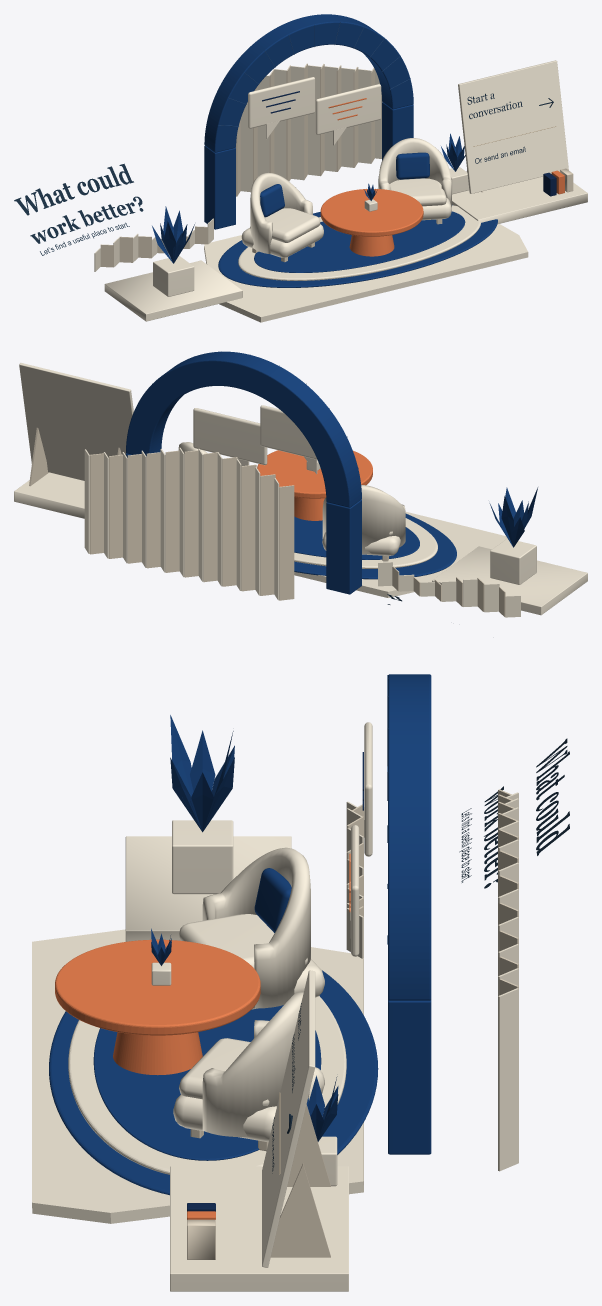
Rendered from contact.glb.
3 renders of one model, top to bottom at view 1: azimuth 30°, elevation 25°; view 2: azimuth 150°, elevation 25°; view 3: azimuth 270°, elevation 25°, orthographic. The views are drawn at different scales.
Parts seen in each view (by area): view 1: Conversation folded platform, Contact invitation, Arch standing leg, Open cobalt conversation arch, Right invitation stage, Left lounge plant folded pot, Cream paper rug rim, Room folded backdrop.015, Coral circular tabletop, Listening bubble panel, Reply bubble panel, Room folded backdrop (+8 smaller); view 2: Room folded backdrop, Open cobalt conversation arch, Conversation folded platform, Contact invitation, Arch standing leg, Left lounge plant folded pot, Invitation folded support, Reply bubble panel, Room folded backdrop.015, Coral circular tabletop, Left architectural pleat, Right invitation stage (+5 smaller); view 3: Conversation folded platform, Arch standing leg, Right invitation stage, Coral circular tabletop, Open cobalt conversation arch, Room folded backdrop.015, Left lounge plant folded pot, Cream paper rug rim, Arch standing leg.001, Contact invitation, Invitation folded support, Left lounge plant folded leaf (+8 smaller).
Part boxes in pixels (<box>): Conversation folded platform: <box>204,65,528,322</box>; Contact invitation: <box>458,60,568,193</box>; Arch standing leg: <box>204,145,497,287</box>; Open cobalt conversation arch: <box>204,14,413,152</box>; Right invitation stage: <box>390,166,587,223</box>; Left lounge plant folded pot: <box>104,255,242,321</box>; Cream paper rug rim: <box>238,199,480,280</box>; Room folded backdrop.015: <box>341,68,451,207</box>; Coral circular tabletop: <box>320,189,423,236</box>; Listening bubble panel: <box>248,77,315,128</box>; Reply bubble panel: <box>315,84,381,134</box>; Room folded backdrop: <box>236,63,341,196</box>; Room folded backdrop: <box>146,450,294,600</box>; Open cobalt conversation arch: <box>126,351,361,507</box>; Conversation folded platform: <box>160,447,507,600</box>; Contact invitation: <box>19,363,133,480</box>; Arch standing leg: <box>294,499,456,594</box>; Left lounge plant folded pot: <box>432,538,587,615</box>; Invitation folded support: <box>29,427,141,563</box>; Reply bubble panel: <box>193,408,267,465</box>; Room folded backdrop.015: <box>84,442,207,567</box>; Coral circular tabletop: <box>257,450,372,498</box>; Left architectural pleat: <box>378,562,520,617</box>; Right invitation stage: <box>14,472,84,518</box>; Conversation folded platform: <box>32,792,518,1223</box>; Arch standing leg: <box>49,868,378,1195</box>; Right invitation stage: <box>170,1038,348,1291</box>; Coral circular tabletop: <box>55,939,260,1035</box>; Open cobalt conversation arch: <box>388,674,431,1000</box>; Room folded backdrop.015: <box>202,917,518,1171</box>; Left lounge plant folded pot: <box>125,820,291,941</box>; Cream paper rug rim: <box>68,914,346,1174</box>; Arch standing leg.001: <box>388,1000,431,1154</box>; Contact invitation: <box>262,970,315,1267</box>; Invitation folded support: <box>270,930,518,1257</box>; Left lounge plant folded leaf: <box>170,715,234,832</box>.
Size of the model in its own units: 9.13 by 3.61 by 4.44.
